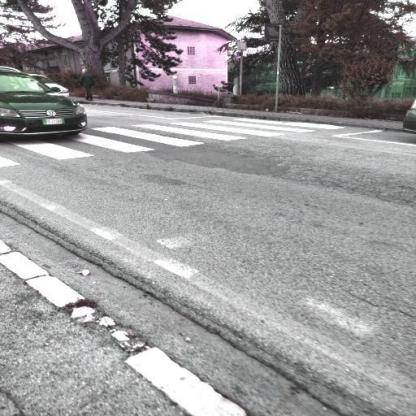crosswalk: (130, 121, 288, 146)
